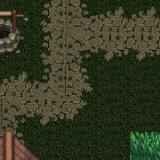Hide: (0, 0, 42, 71)
Slow: (130, 132, 160, 160)
